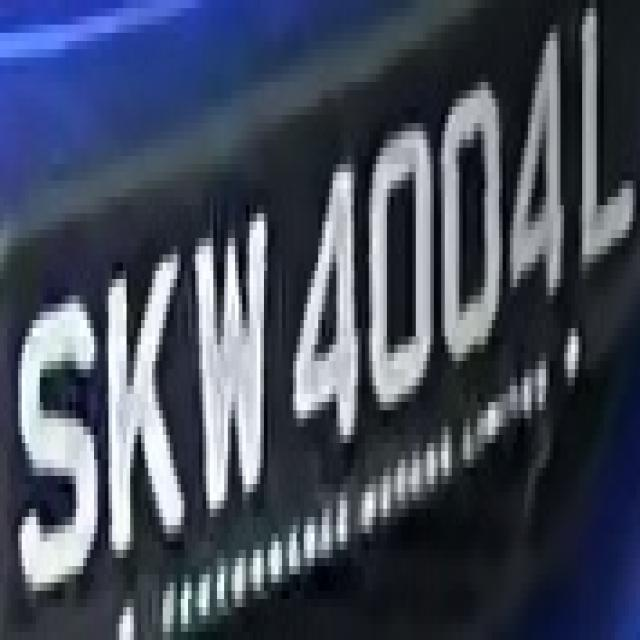0: (426, 49, 509, 369), (354, 99, 434, 418)
4: (275, 148, 365, 476), (499, 8, 568, 328)
K: (94, 222, 184, 574)
L: (575, 8, 636, 279)
S: (14, 271, 94, 624)
W: (181, 189, 278, 525)
